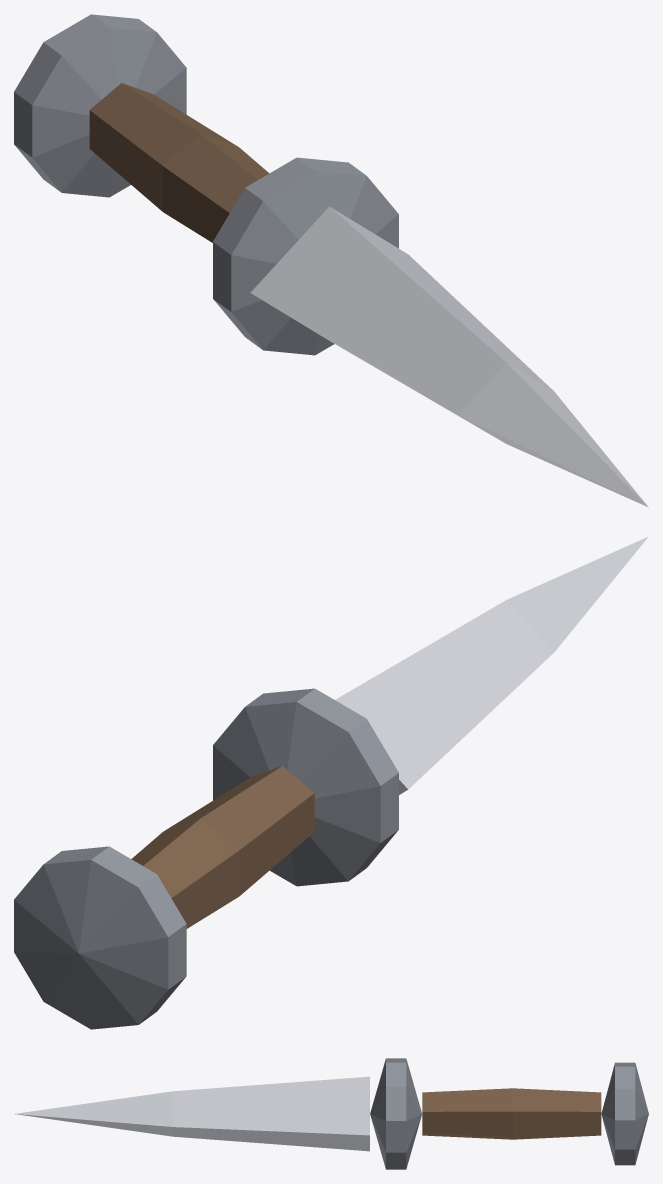
The model's file is harrowspike.glb.
3 views of the same model, one above another, from view 1: azimuth 30°, elevation 25°; view 2: azimuth 150°, elevation 25°; view 3: azimuth 270°, elevation 25° (orthographic). The views are drawn at different scales.
Visible parts, largest first — view 1: harrowspike; view 2: harrowspike; view 3: harrowspike.
Part boxes in pixels (box(x1,y1,x2,y2)): harrowspike: box(14, 14, 648, 507); harrowspike: box(14, 536, 648, 1029); harrowspike: box(15, 1058, 648, 1169).
Size of the model in its own units: 0.0951 by 0.1 by 0.56.
